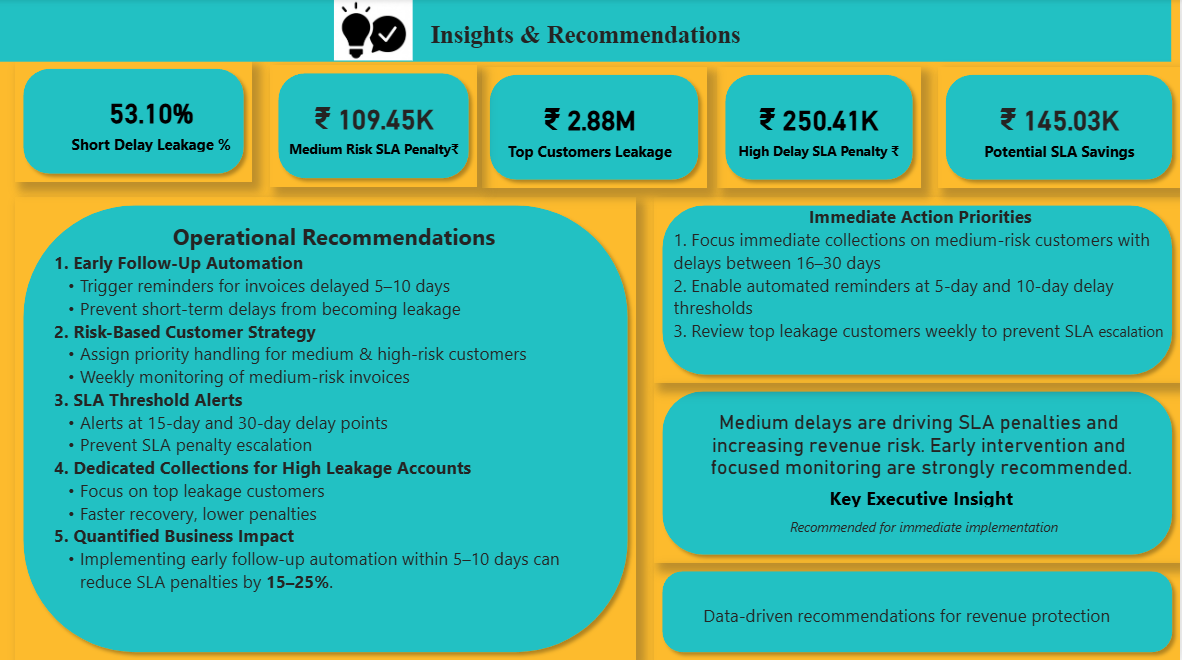

The page's visual inventory and layout, read from the dashboard file:
{"tool":"powerbi","page":{"name":"Insights & Recommendations","canvas":[1280,720],"ordinal":5},"visuals":[{"type":"shape","box":[709.2,416.4,570.9,195.2],"z":0},{"type":"shape","box":[16.3,214.7,673.4,502.6],"z":1000},{"type":"shape","box":[777.5,73.2,221.2,131.8],"z":2000},{"type":"shape","box":[522.1,73.2,244,131.8],"z":3000},{"type":"shape","box":[292.8,71.6,224.5,131.8],"z":4000},{"type":"shape","box":[16.3,66.7,257,131.8],"z":5000},{"type":"textbox","box":[0,0,1269.9,68],"z":6000},{"type":"card","fields":{"Values":["revenue_processed.Short Delay Leakage %"]},"box":[53.7,94.3,219.6,76.4],"z":7000},{"type":"card","fields":{"Values":["revenue_processed.Medium Risk SLA"]},"box":[307.4,94.3,195.2,87.8],"z":8000},{"type":"card","fields":{"Values":["revenue_processed.Top Customers Leakage"]},"box":[538.4,96,201.7,87.8],"z":9000},{"type":"card","fields":{"Values":["revenue_processed.High Delay Penalty"]},"box":[790.5,96,193.6,87.8],"z":10000},{"type":"textbox","box":[53.7,218,613.2,476.6],"z":11000},{"type":"card","fields":{"Values":["revenue_processed.Delay & SLA Insight"]},"box":[740.1,434.3,517.2,122],"z":12000},{"type":"shape","box":[709.2,611.6,570.9,105.7],"z":13000},{"type":"textbox","box":[709.2,650.6,548.1,55.3],"z":14000},{"type":"shape","box":[1016.6,73.2,263.5,131.8],"z":15000},{"type":"card","fields":{"Values":["revenue_processed.Potential SLA Savings"]},"box":[1047.5,86.2,201.7,109],"z":16000},{"type":"shape","box":[709.2,214.7,570.9,201.7],"z":17000},{"type":"textbox","box":[725.4,218,544.9,182.2],"z":18000},{"type":"textbox","box":[754.7,556.3,494.5,37.4],"z":19000},{"type":"image","box":[359.5,0,91.1,66.7],"z":19001}]}

Visuals, with their boxes in screenshot pixels (x1, y1, x2, y2), scaled from the page's 1280x720 canvas onto the 1182x660 screenshot:
shape: <box>655,382,1181,561</box>
shape: <box>15,197,637,658</box>
shape: <box>718,67,922,188</box>
shape: <box>482,67,707,188</box>
shape: <box>270,66,478,186</box>
shape: <box>15,61,252,182</box>
textbox: <box>0,0,1173,62</box>
card - revenue_processed.Short Delay Leakage %: <box>50,86,252,156</box>
card - revenue_processed.Medium Risk SLA: <box>284,86,464,167</box>
card - revenue_processed.Top Customers Leakage: <box>497,88,683,168</box>
card - revenue_processed.High Delay Penalty: <box>730,88,909,168</box>
textbox: <box>50,200,616,637</box>
card - revenue_processed.Delay & SLA Insight: <box>683,398,1161,510</box>
shape: <box>655,561,1181,658</box>
textbox: <box>655,596,1161,647</box>
shape: <box>939,67,1181,188</box>
card - revenue_processed.Potential SLA Savings: <box>967,79,1154,179</box>
shape: <box>655,197,1181,382</box>
textbox: <box>670,200,1173,367</box>
textbox: <box>697,510,1154,544</box>
image: <box>332,0,416,61</box>
